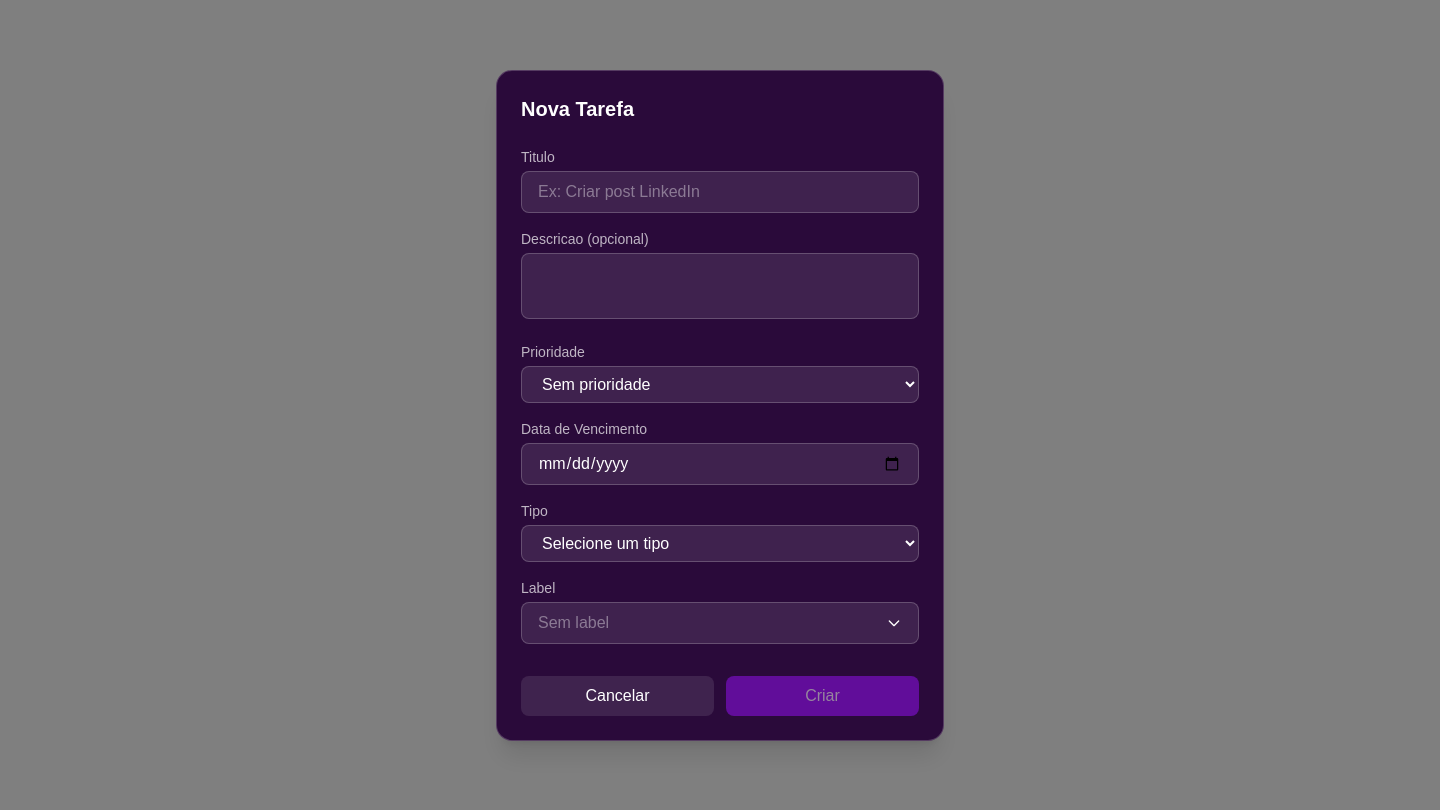
Test: CreateHabitTodoModal › todo creation › should show category selector for todos when category type is selected
The image size is (1440, 810).
Note: Select a category type to make the "Categoria" field appear
Select "Work" in the dropdown labelled "Tipo": [720, 543] box [521, 524, 919, 562]
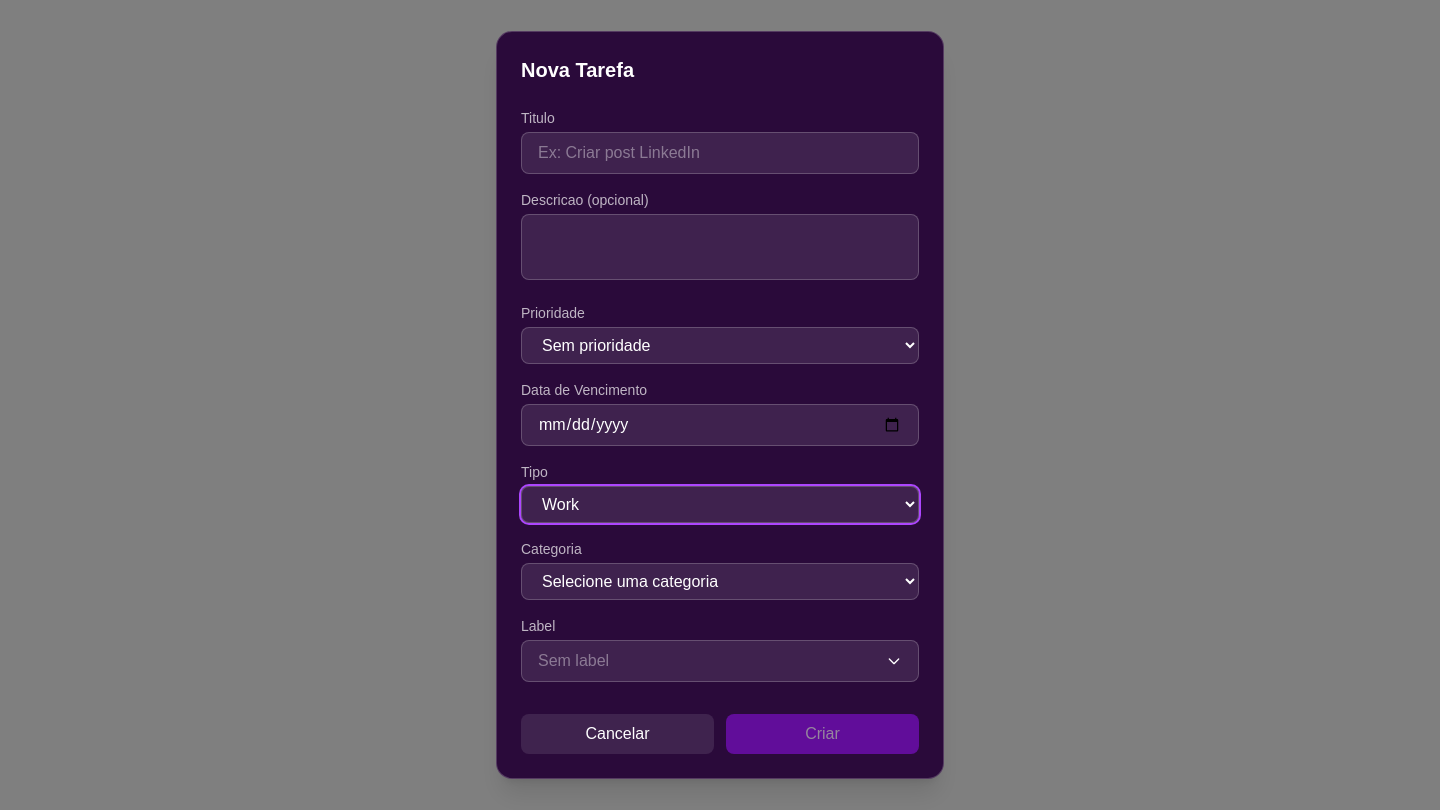
Result: the dropdown labelled "Categoria" is shown at [521, 563, 919, 600]
